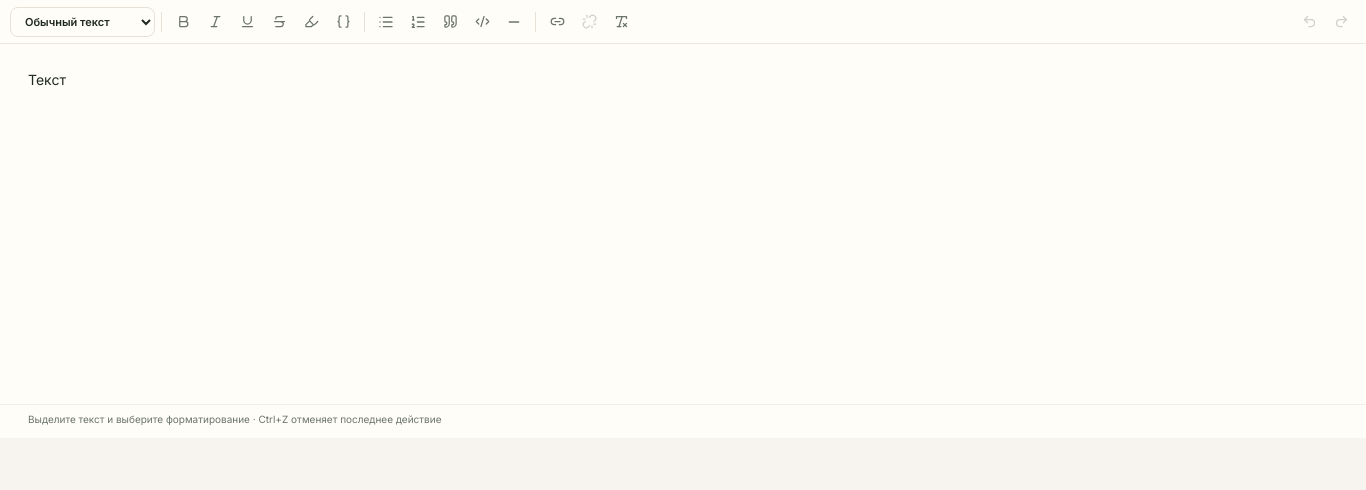
RichTextEditor › offers the document formatting commands and an inline link editor
This screenshot has width=1366, height=490.
expect the field named "Редактор конспекта" is shown: met, box [28,71,66,88]
expect the dropdown named "Стиль абзаца" is shown: met, box [10,6,155,36]
Step 1. Click the button named "Добавить ссылку" → (557, 22), box [542,6,572,36]
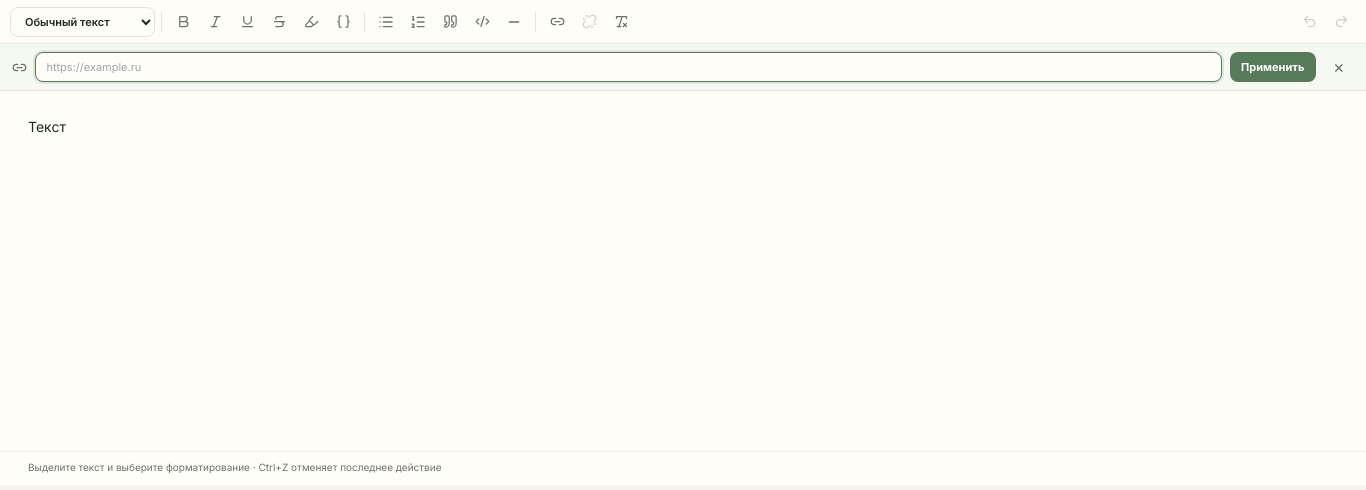
expect the field named "Адрес ссылки" is shown: met, box [35,52,1222,82]
expect the button "Применить" is shown: met, box [1230,52,1316,82]
